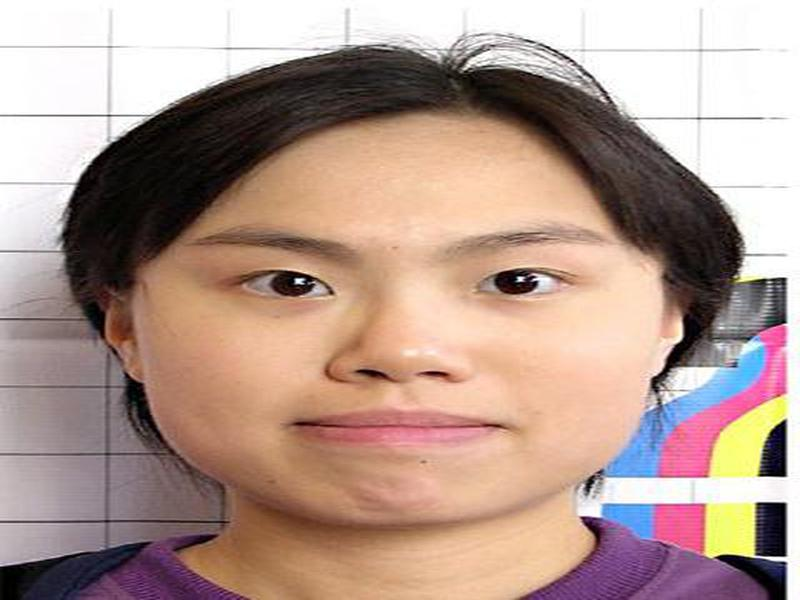without_mask: (176, 138, 625, 519)
